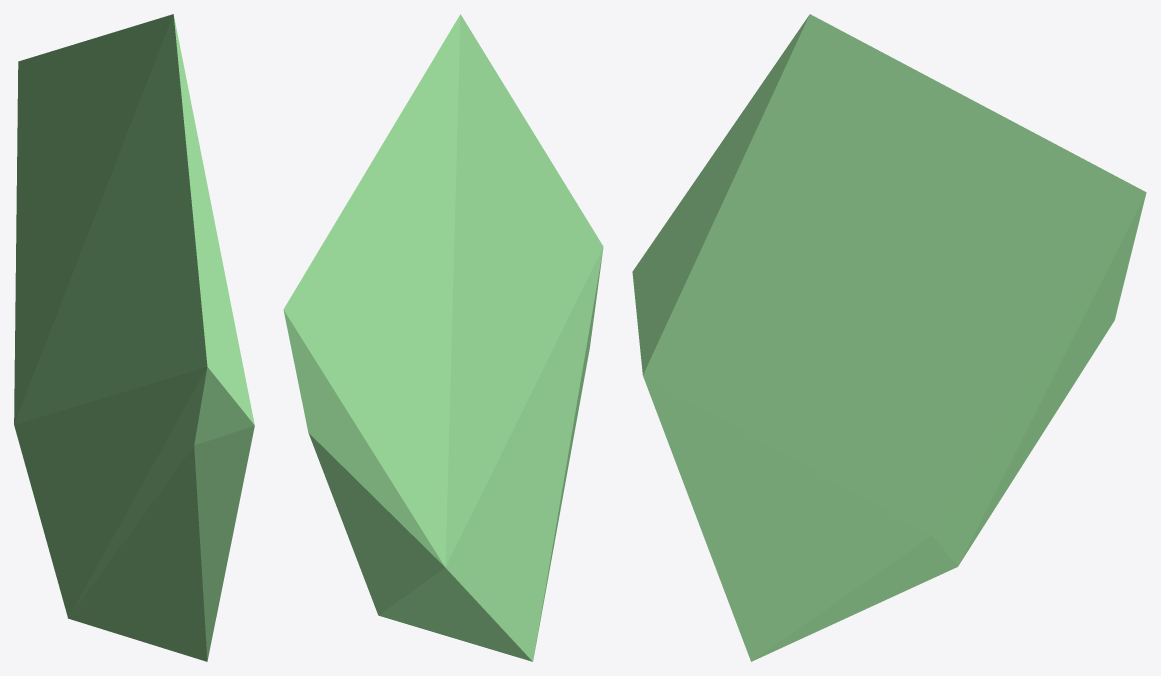
The model's file is linkhou_LR4_R560_link7_respondable_coll_19.dae.
3 renders of one model, left to right at view 1: azimuth 30°, elevation 25°; view 2: azimuth 150°, elevation 25°; view 3: azimuth 270°, elevation 25°, orthographic. The views are drawn at different scales.
Parts seen in each view (by area): view 1: Node_00000209DB3A9E60; view 2: Node_00000209DB3A9E60; view 3: Node_00000209DB3A9E60.
Part boxes in pixels (left/top/right/bottom): Node_00000209DB3A9E60: left=14, top=14, right=254, bottom=661; Node_00000209DB3A9E60: left=283, top=14, right=603, bottom=661; Node_00000209DB3A9E60: left=632, top=14, right=1146, bottom=661.
Bounding box in the file's own units: 0.0055 × 0.0342 × 0.0247.
